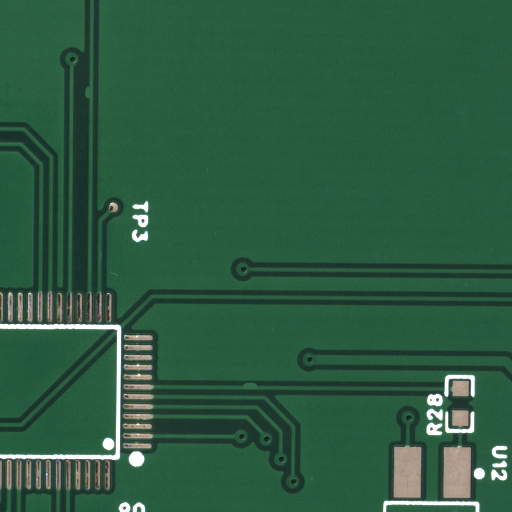Spur: (251, 386, 274, 393), (87, 91, 94, 106)
